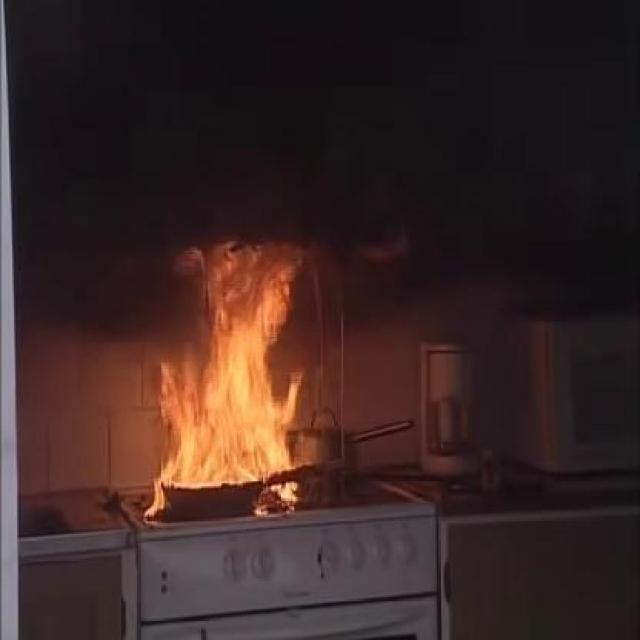fire: (132, 238, 336, 462)
